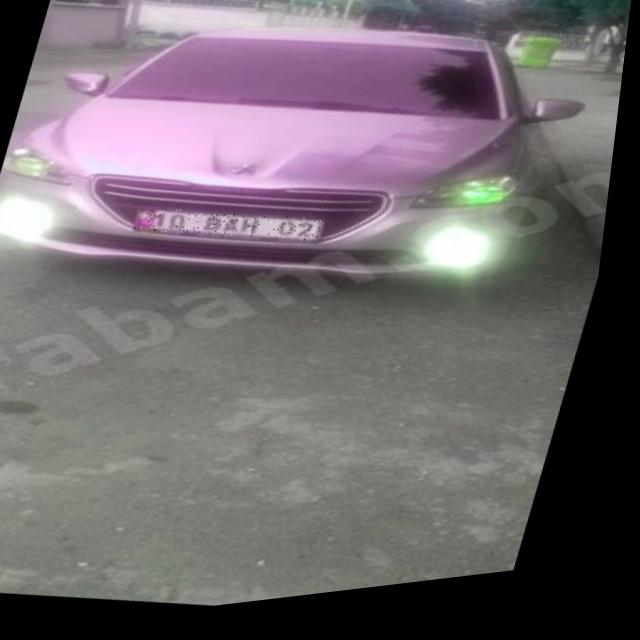license_plate: (136, 194, 334, 267)
